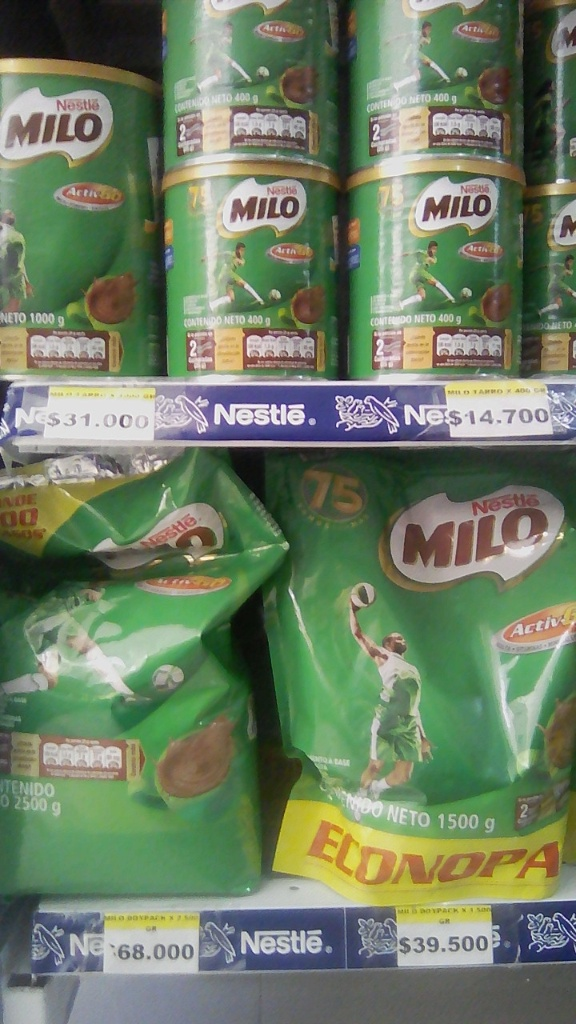COL0170203LAT20000: (521, 1, 575, 184)
COL0170203LAT40000: (162, 2, 340, 167)
